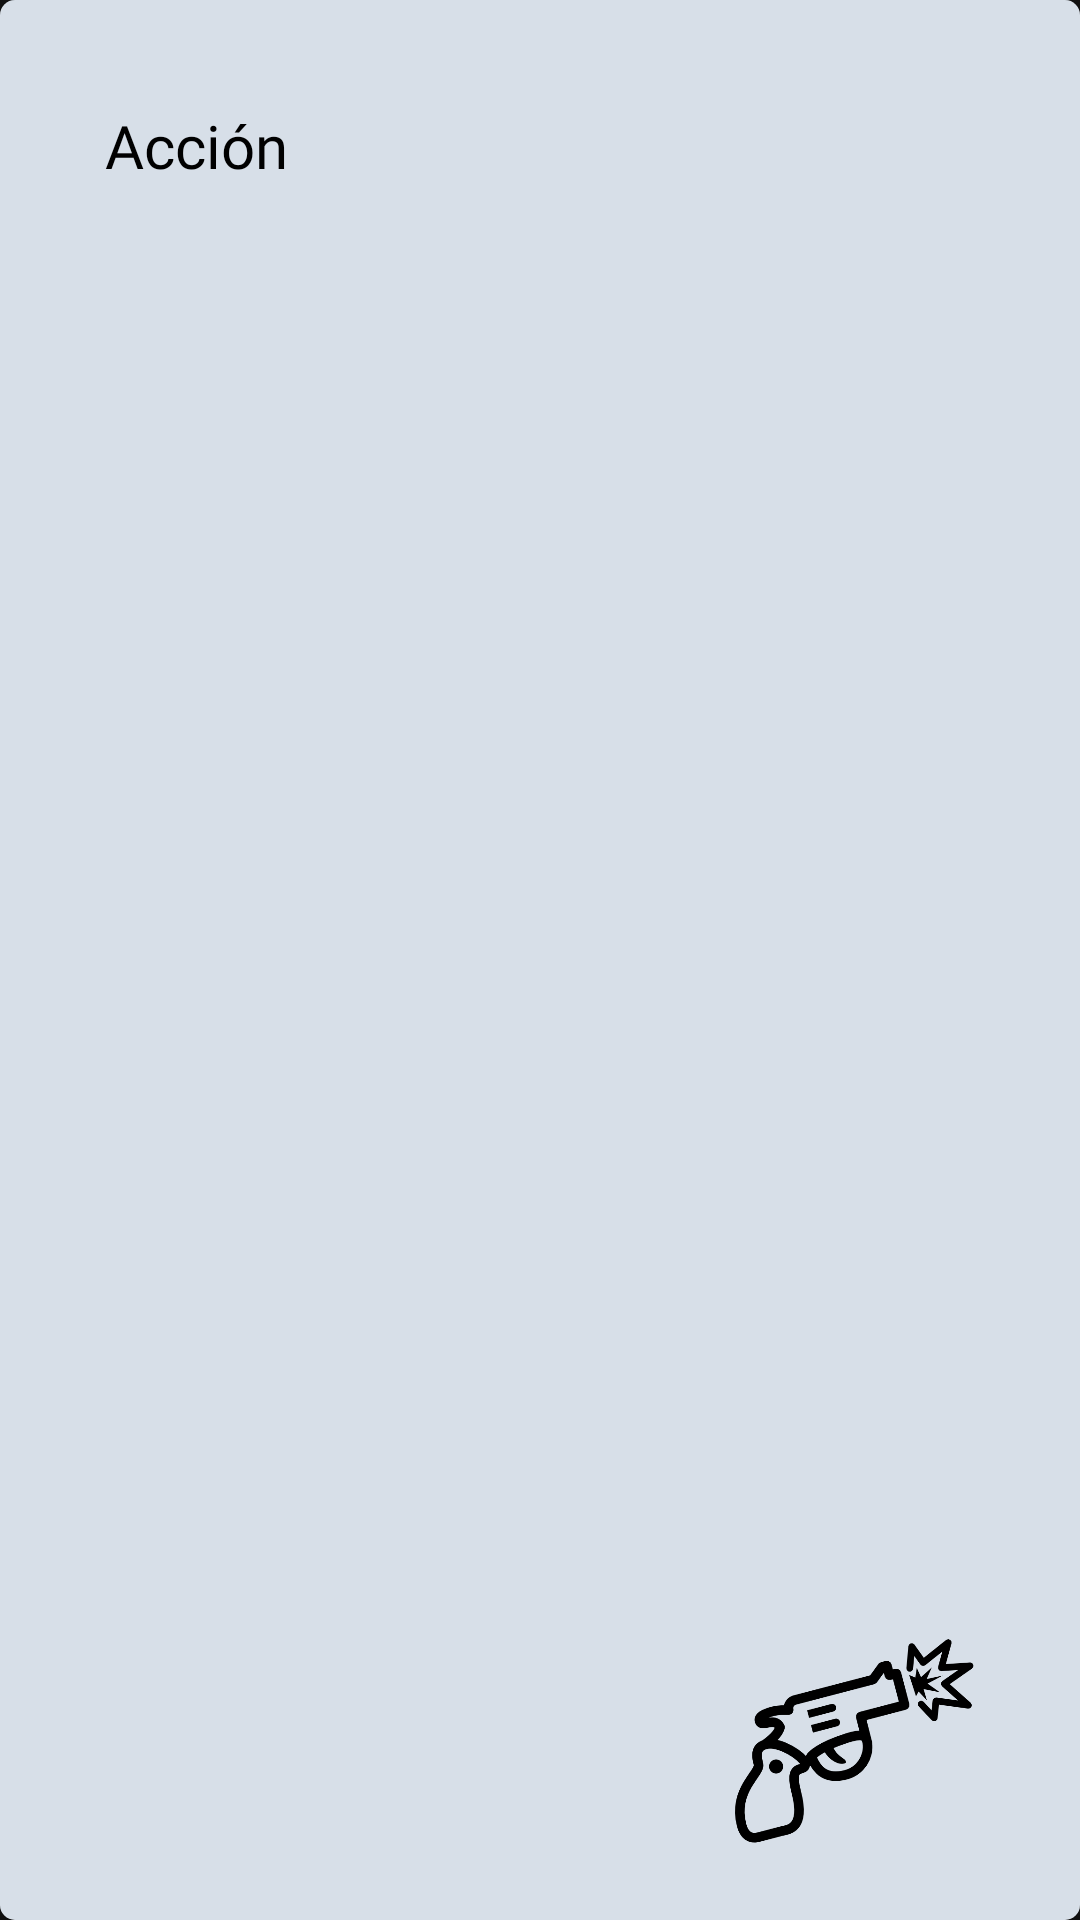

Icon bounding boxes for this 1080w x 1920h phone screenshot, format (x1, y1, x2, y2):
accion: (735, 1639, 974, 1843)
